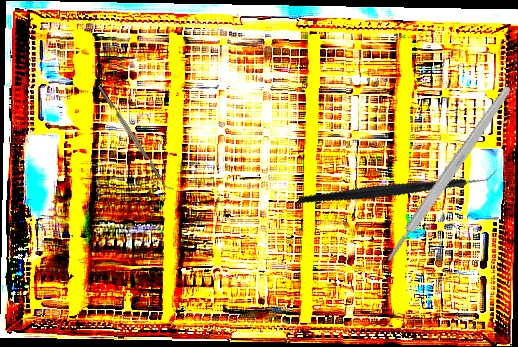Chopper: (297, 121, 498, 250), (97, 81, 175, 194)
Scalpel Handle: (383, 84, 514, 264)
